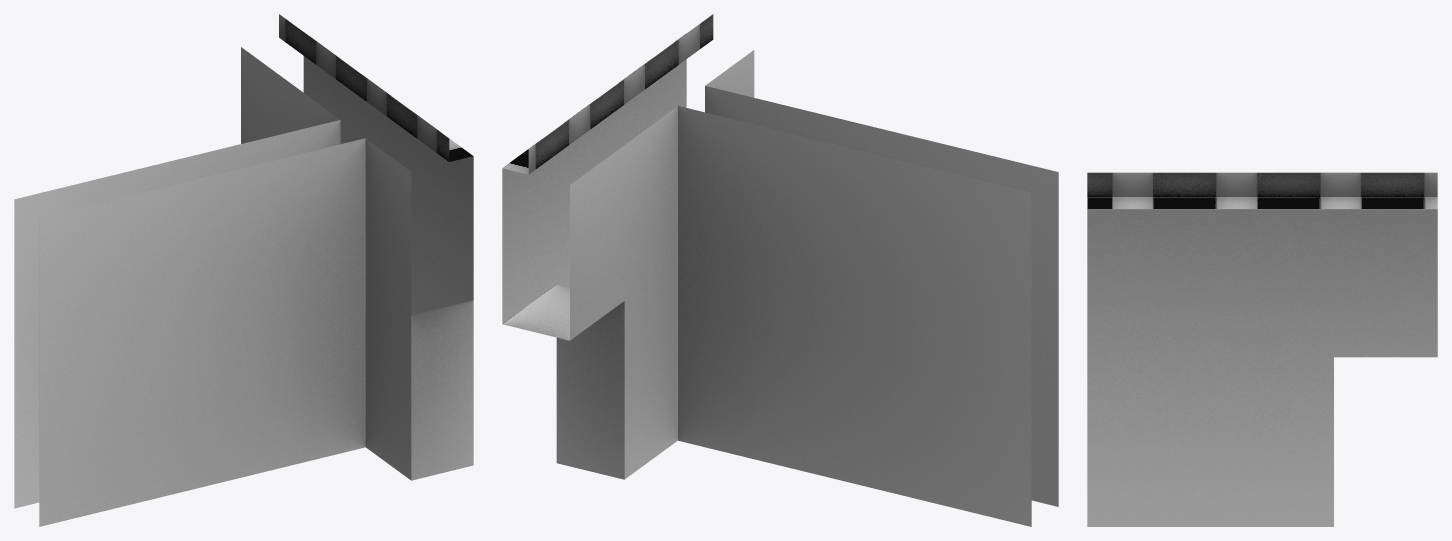
Rendered from chamber.glb.
3 renders of one model, left to right at view 1: azimuth 30°, elevation 25°; view 2: azimuth 150°, elevation 25°; view 3: azimuth 270°, elevation 25°, orthographic. The views are drawn at different scales.
Parts seen in each view (by area): view 1: Plane.008; view 2: Plane.008; view 3: Plane.008.
Boxes of the visible parts, x1,y1,x2,y2 form: Plane.008: (14,14,473,526); Plane.008: (502,14,1058,526); Plane.008: (1087,172,1437,526).
Size of the model in its own units: 5.88 by 4.8 by 4.45.
1 material, 1 textured.
